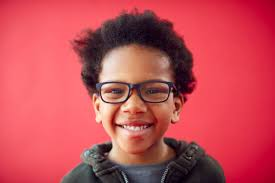person: (80, 10, 193, 157)
